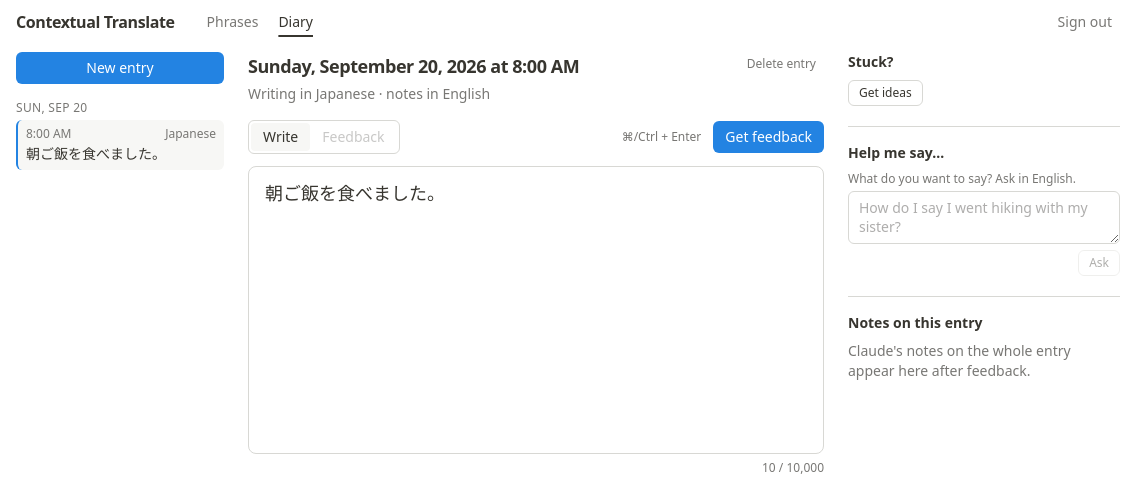
Test: DiaryPage › autosaves as the learner writes and updates the list's preview
Expected: the button "New entry" is shown, [16,52,224,84]
Type "美味しかったです。" into the text box named "Diary entry" at point(536, 310), box [248,166,824,454]
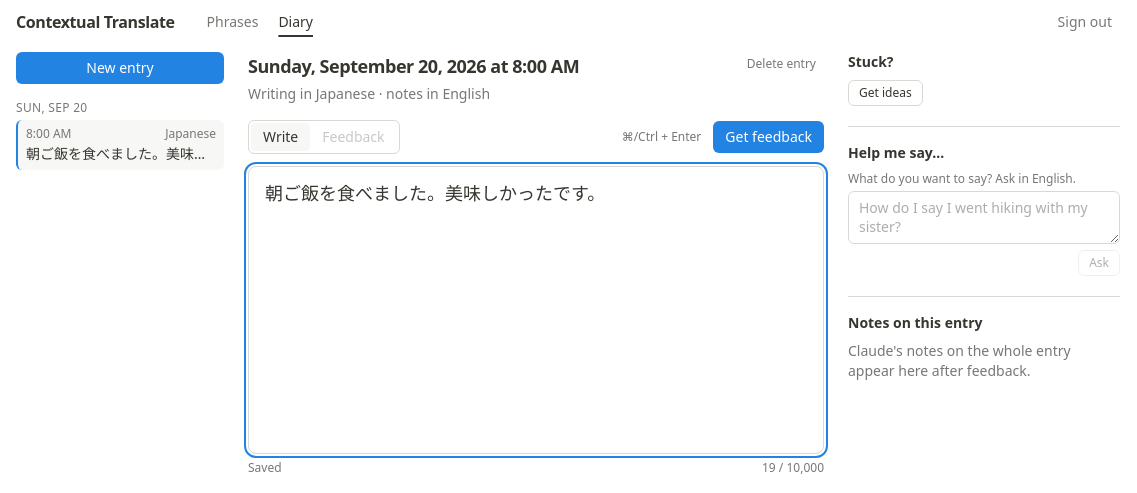
Result: the text "Saved" is shown at [248,460,282,476]
Result: the link "8:00 AM Japanese 朝ご飯を食べました。美味しかったです。" is shown at [16,120,224,170]
